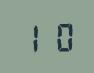one: (19, 20, 46, 53)
zero: (47, 19, 74, 52)
